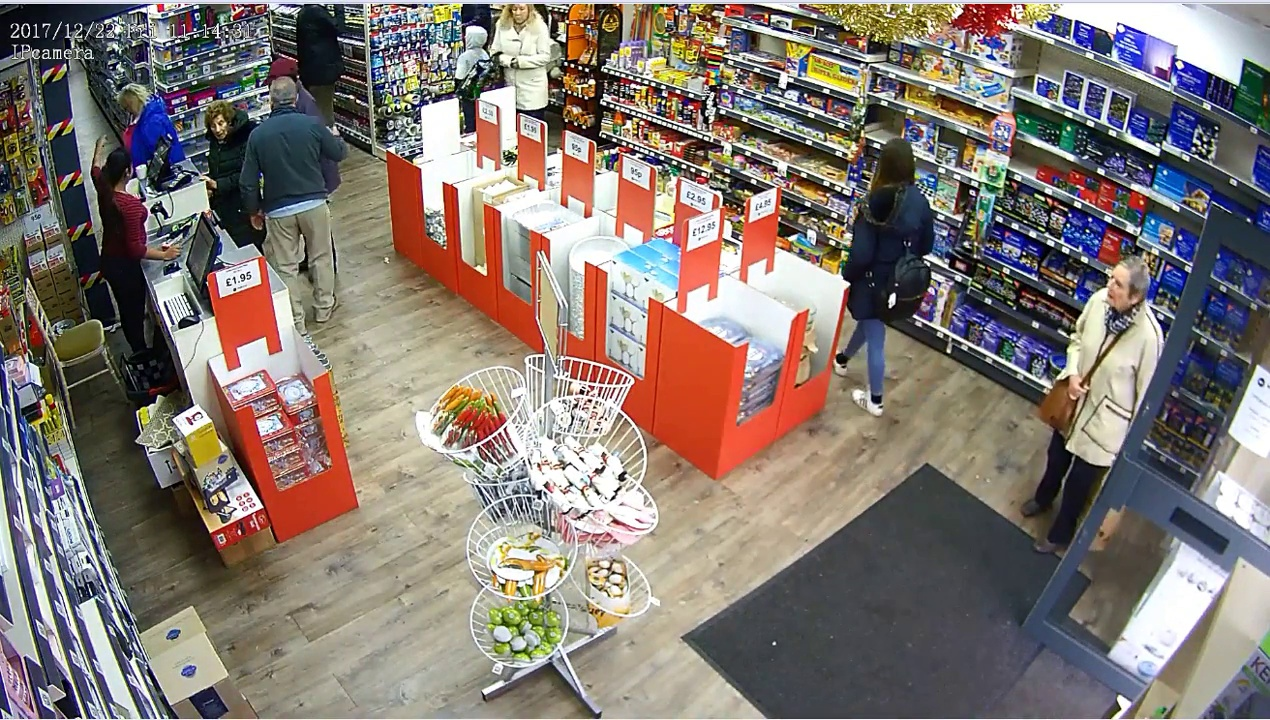face: (1104, 272, 1138, 311), (210, 112, 231, 142), (509, 5, 531, 22)
